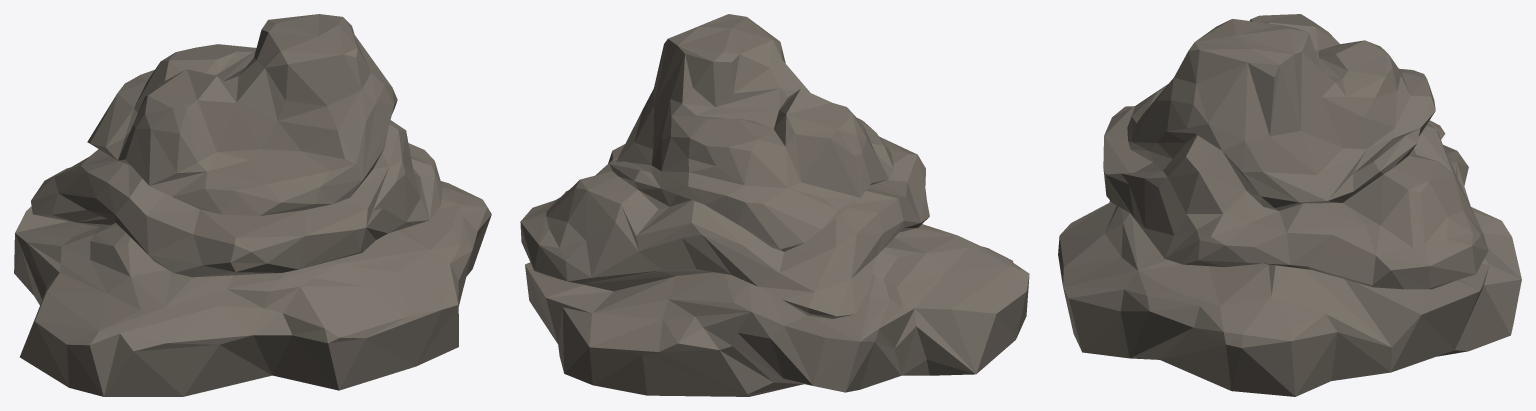
The model's file is SM_Env_Rock_Large_06.glb.
3 renders of one model, left to right at view 1: azimuth 30°, elevation 25°; view 2: azimuth 150°, elevation 25°; view 3: azimuth 270°, elevation 25°, orthographic. The views are drawn at different scales.
Parts seen in each view (by area): view 1: SM_Env_Rock_Large_06_part00; view 2: SM_Env_Rock_Large_06_part00; view 3: SM_Env_Rock_Large_06_part00.
Boxes of the visible parts, left/top/right/bottom form: SM_Env_Rock_Large_06_part00: left=14, top=14, right=491, bottom=396; SM_Env_Rock_Large_06_part00: left=520, top=14, right=1029, bottom=396; SM_Env_Rock_Large_06_part00: left=1058, top=14, right=1521, bottom=396.
Bounding box in the file's own units: 9.38 × 5.73 × 8.05.
1 material, 1 textured.
